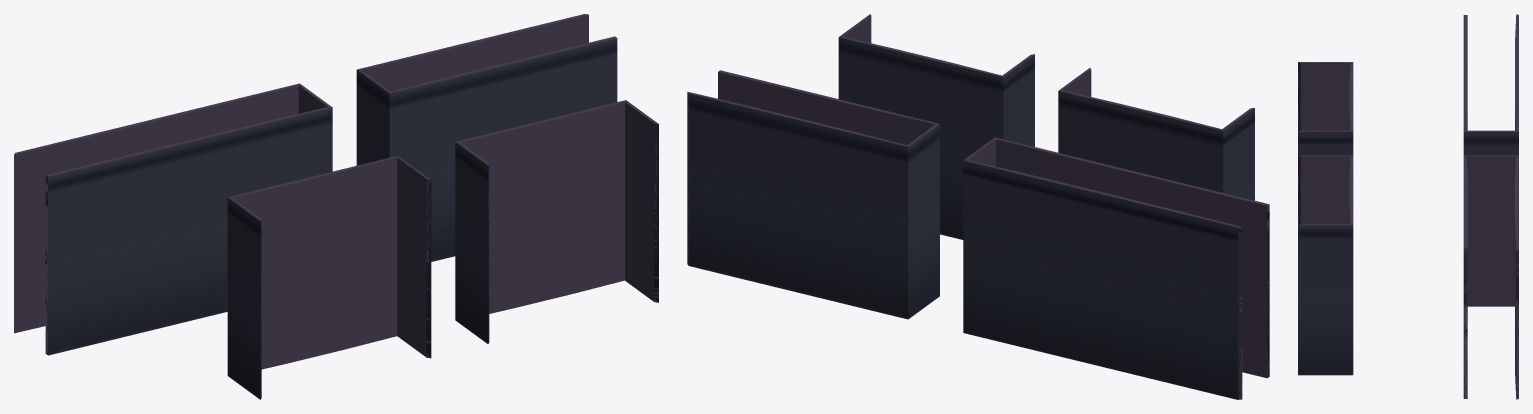
The model's file is Store 3 Walls.fbx.
3 views of the same model, side by side, from view 1: azimuth 30°, elevation 25°; view 2: azimuth 150°, elevation 25°; view 3: azimuth 270°, elevation 25° (orthographic). The views are drawn at different scales.
Parts seen in each view (by area): view 1: Store 3 Walls; view 2: Store 3 Walls; view 3: Store 3 Walls.
Boxes of the visible parts, x1=… form: Store 3 Walls: x1=14, y1=14, x2=658, y2=399; Store 3 Walls: x1=687, y1=14, x2=1269, y2=399; Store 3 Walls: x1=1298, y1=14, x2=1518, y2=399.
Bounding box in the file's own units: 1010 × 300 × 400.
Materials: 1 (1 with a texture image).
